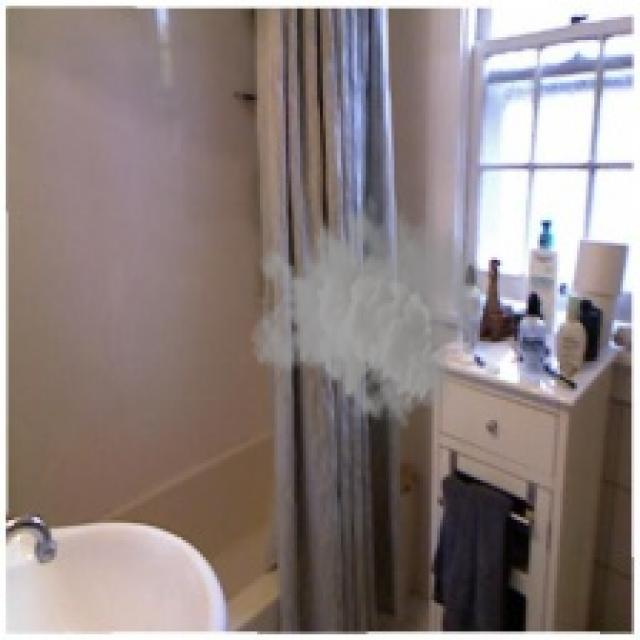Smoke: (248, 186, 486, 431)
